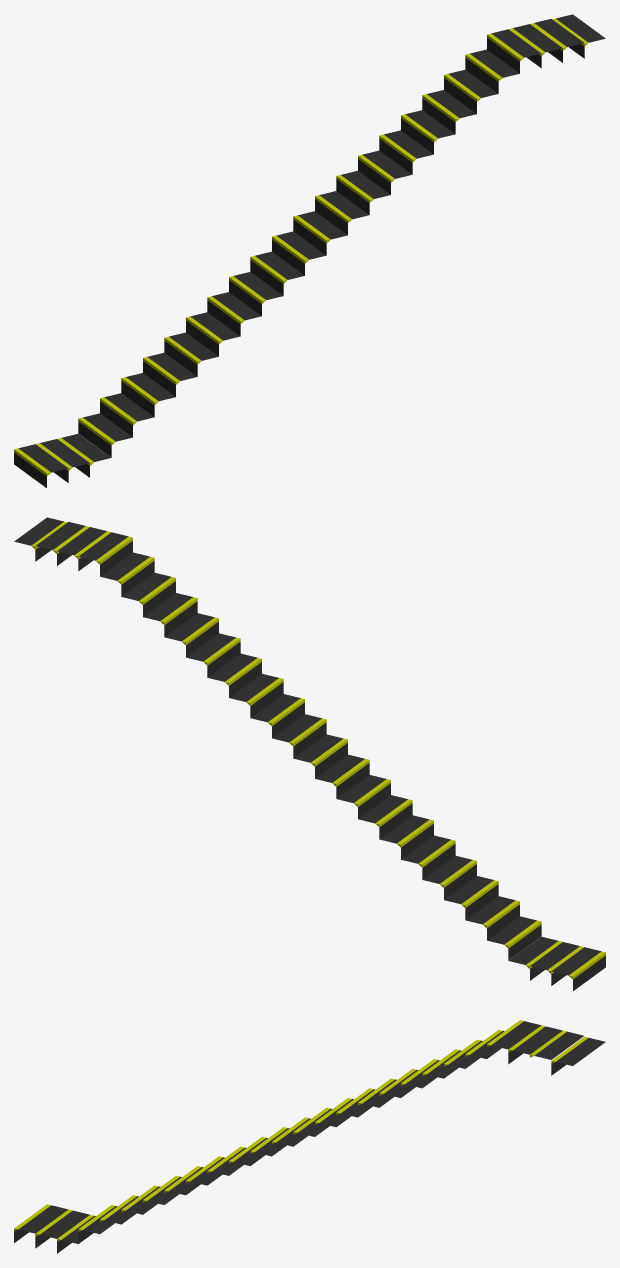
File: marche escalator.fbx
The picture shows the model from 3 angles, top to bottom: view 1: azimuth 30°, elevation 25°; view 2: azimuth 150°, elevation 25°; view 3: azimuth 330°, elevation 25°; orthographic projection.
Parts seen in each view (by area): view 1: escalator montant; view 2: escalator montant; view 3: escalator montant.
Boxes of the visible parts, x1,y1,x2,y2 form: escalator montant: (14, 14, 605, 487); escalator montant: (14, 517, 605, 990); escalator montant: (14, 1020, 605, 1253).
Bounding box in the file's own units: 1557 × 837 × 160.
